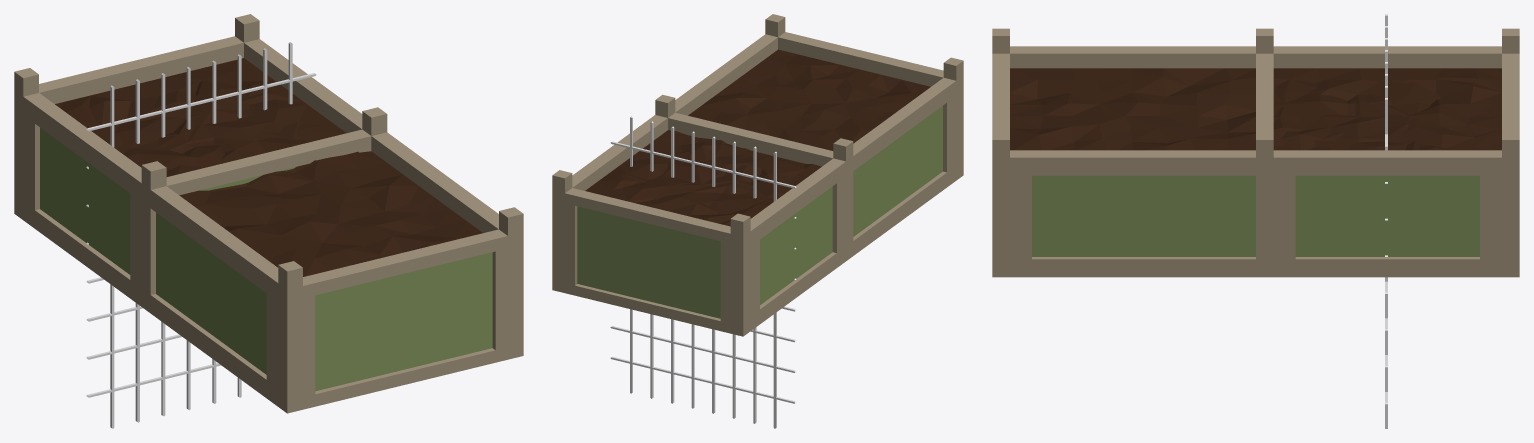
The model's file is Containers.fbx.
The picture shows the model from 3 angles, left to right: view 1: azimuth 30°, elevation 25°; view 2: azimuth 150°, elevation 25°; view 3: azimuth 270°, elevation 25°; orthographic projection. The views are drawn at different scales.
Visible parts, largest first — view 1: Planter 2, Planter 1, Trellis; view 2: Planter 2, Planter 1, Trellis; view 3: Planter 2, Planter 1, Trellis.
Boxes of the visible parts, box(x1,y1,x2,y2) form: Planter 2: box(24, 39, 523, 413); Planter 1: box(14, 14, 387, 312); Trellis: box(86, 42, 316, 428); Planter 2: box(572, 14, 963, 329); Planter 1: box(552, 94, 853, 336); Trellis: box(610, 116, 796, 428); Planter 2: box(992, 28, 1501, 277); Planter 1: box(1256, 28, 1519, 277); Trellis: box(1385, 14, 1387, 428).
Size of the model in its own units: 260 by 360 by 520.
